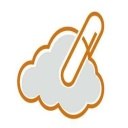Metal: (55, 7, 105, 90)
